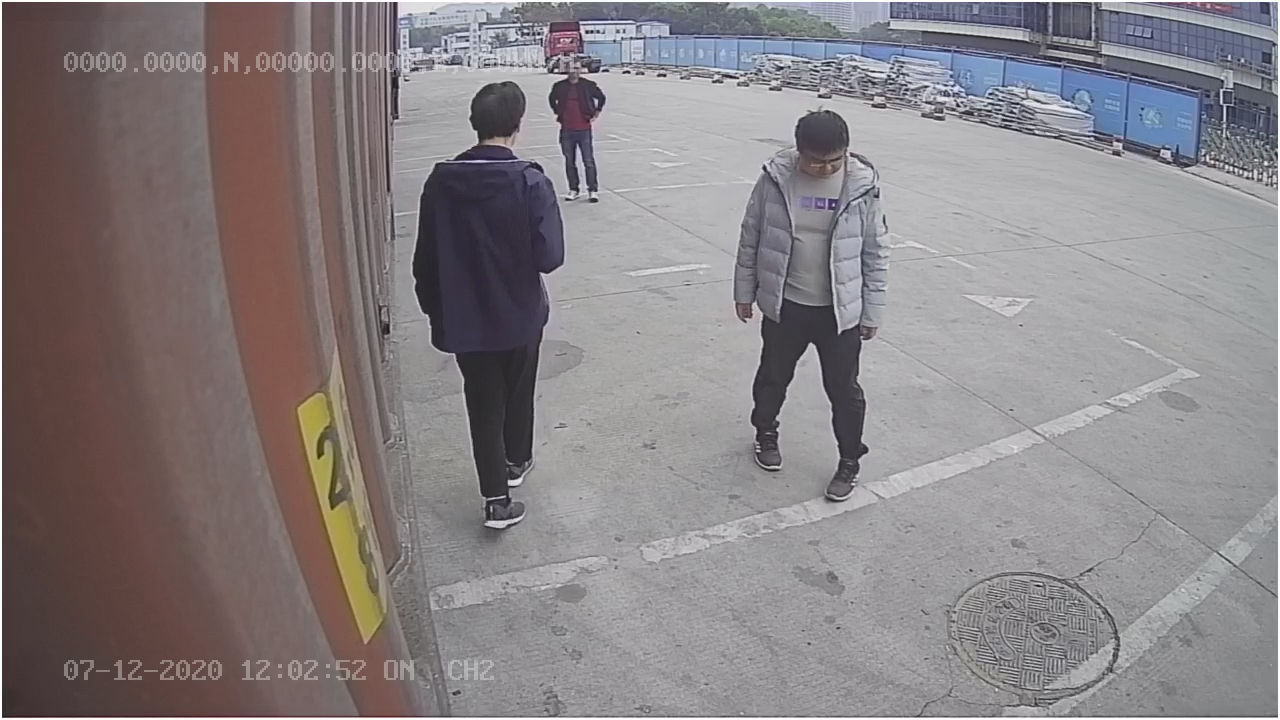person: (729, 106, 886, 501)
